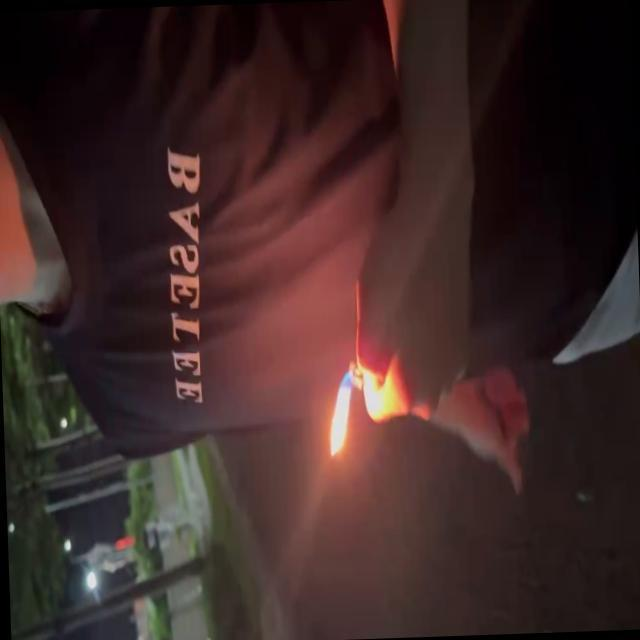Fire: (325, 372, 360, 465)
